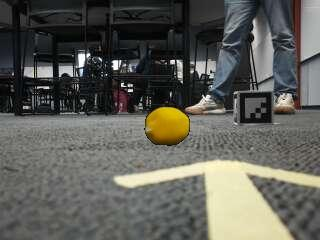lemon: (146, 107, 191, 145)
